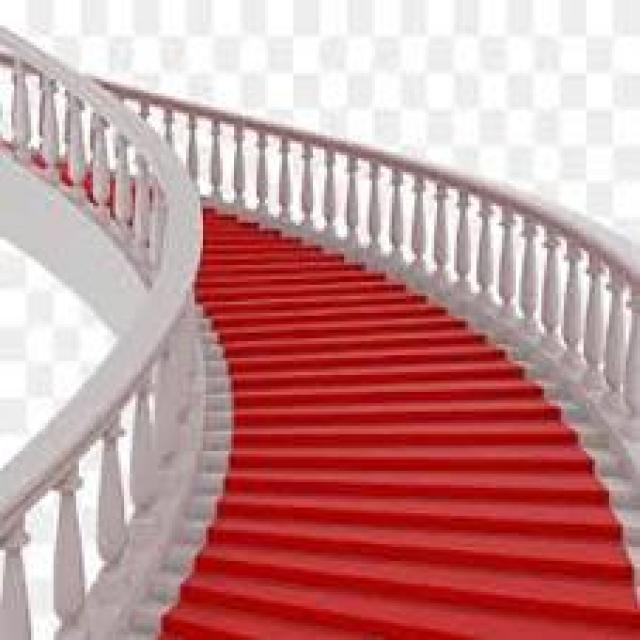upstair: (176, 384, 604, 630)
